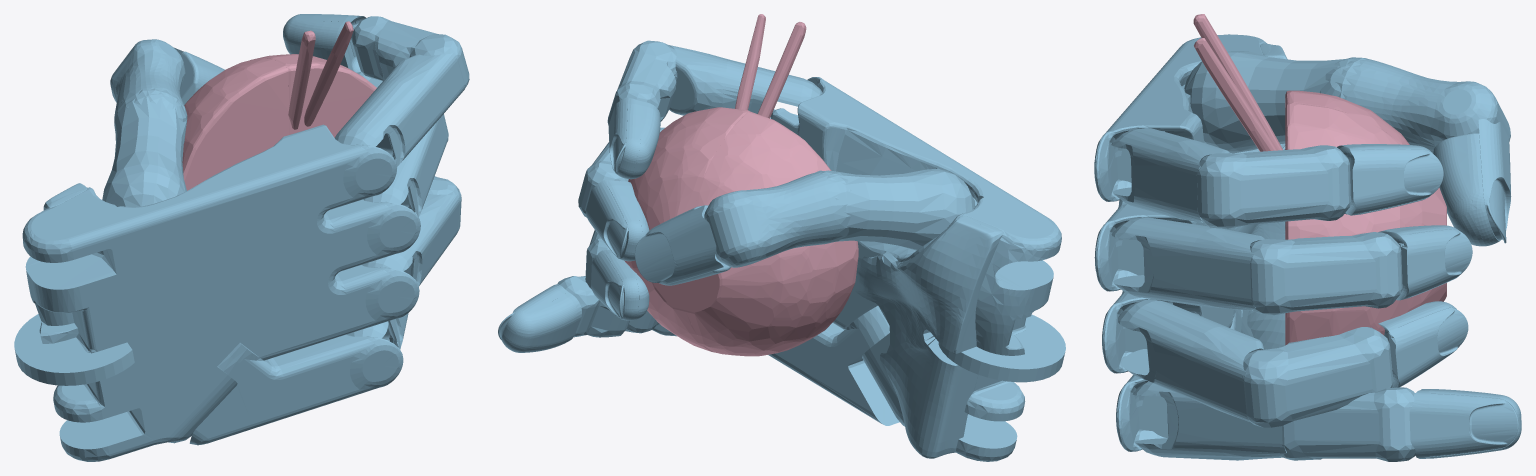
3 views of the same model, side by side, from view 1: azimuth 30°, elevation 25°; view 2: azimuth 150°, elevation 25°; view 3: azimuth 270°, elevation 25° (orthographic). The views are drawn at different scales.
Parts seen in each view (by area): view 1: hand_isaac_q, world; view 2: hand_isaac_q, world; view 3: hand_isaac_q, world.
Part boxes in pixels (x1,y1,x2,y2): hand_isaac_q: (14,14,469,461); world: (182,21,376,190); hand_isaac_q: (498,40,1065,461); world: (624,14,858,356); hand_isaac_q: (1094,34,1521,461); world: (1193,14,1446,345).
Bounding box in the file's own units: 0.1558 × 0.125 × 0.1065.
